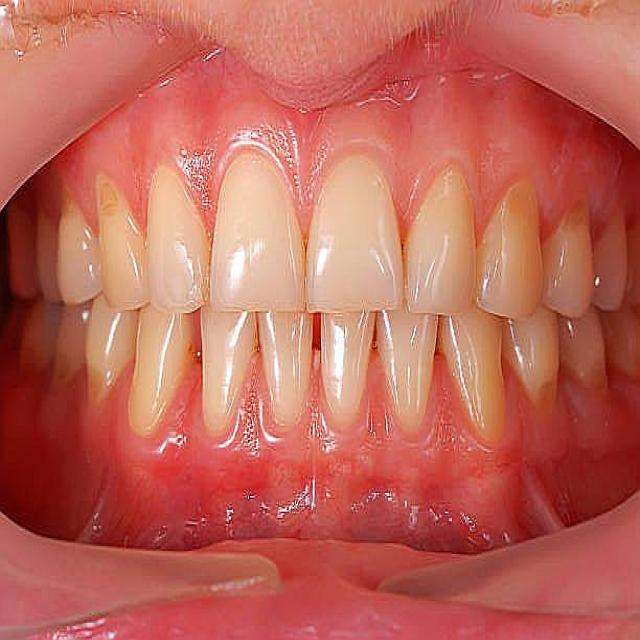caries: (550, 183, 595, 247), (86, 168, 134, 224), (498, 171, 540, 233), (80, 348, 112, 407), (47, 181, 85, 227), (526, 371, 560, 416), (42, 343, 73, 389)
